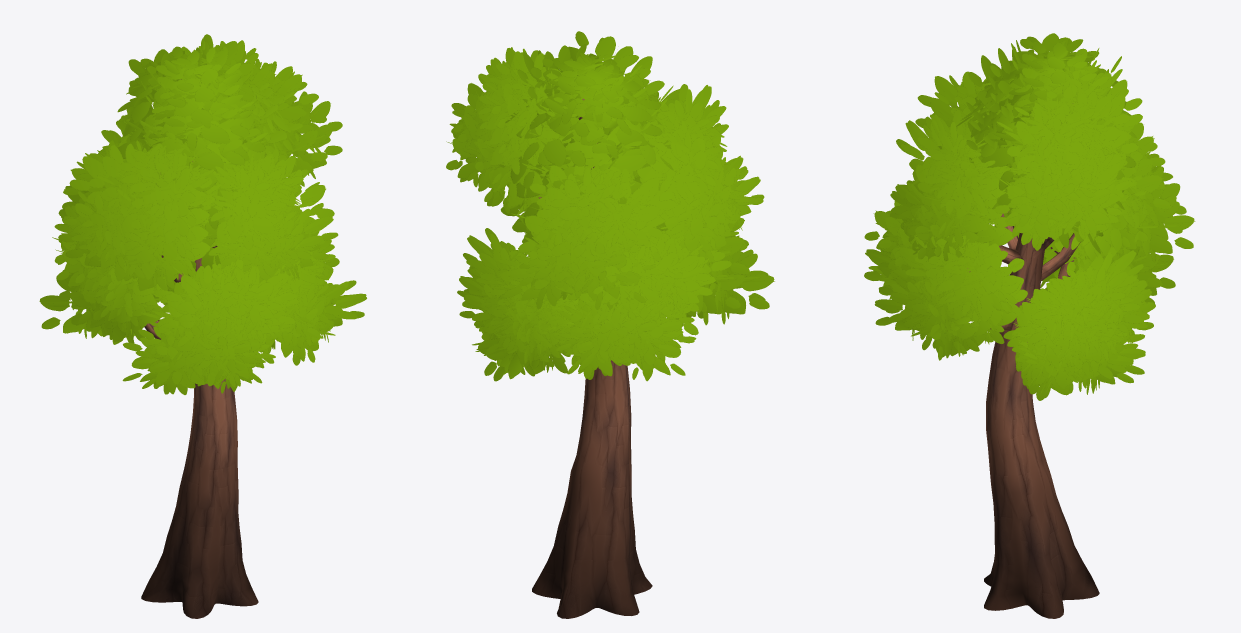
Rendered from CommonTree_1.glb.
The picture shows the model from 3 angles, left to right: view 1: azimuth 30°, elevation 25°; view 2: azimuth 150°, elevation 25°; view 3: azimuth 270°, elevation 25°; orthographic projection. The views are drawn at different scales.
Visible parts, largest first — view 1: CommonTree_1; view 2: CommonTree_1; view 3: CommonTree_1.
Part boxes in pixels (bbox=[...]): CommonTree_1: bbox=[39, 34, 366, 618]; CommonTree_1: bbox=[446, 31, 774, 618]; CommonTree_1: bbox=[864, 33, 1195, 618].
Bounding box in the file's own units: 4.31 × 7.26 × 4.58.
Materials: 2 (2 with a texture image).
